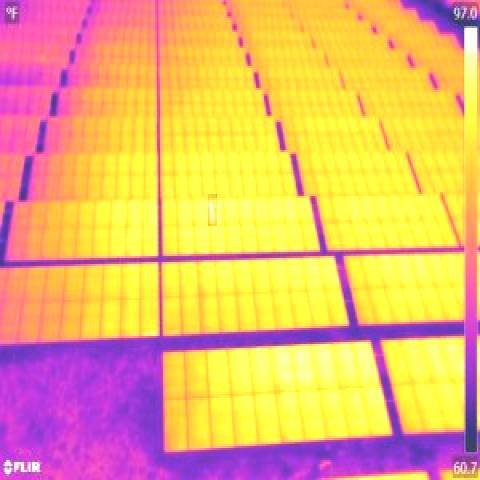fault: (208, 194, 217, 226)
